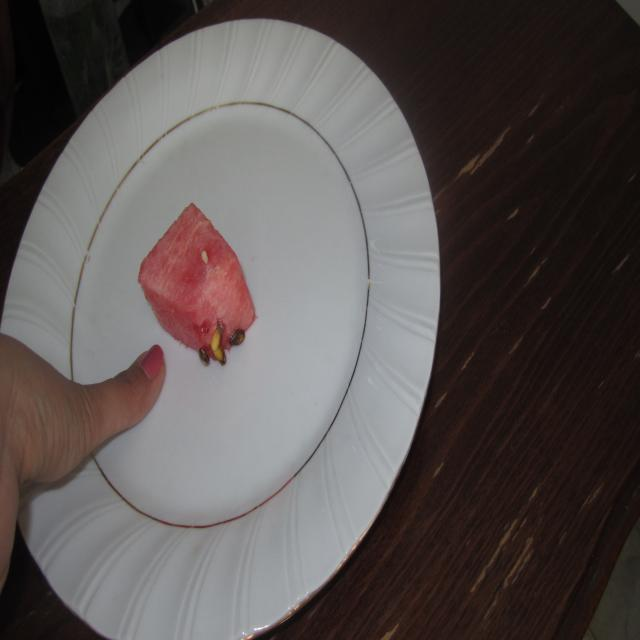Watermelon: (131, 187, 263, 350)
